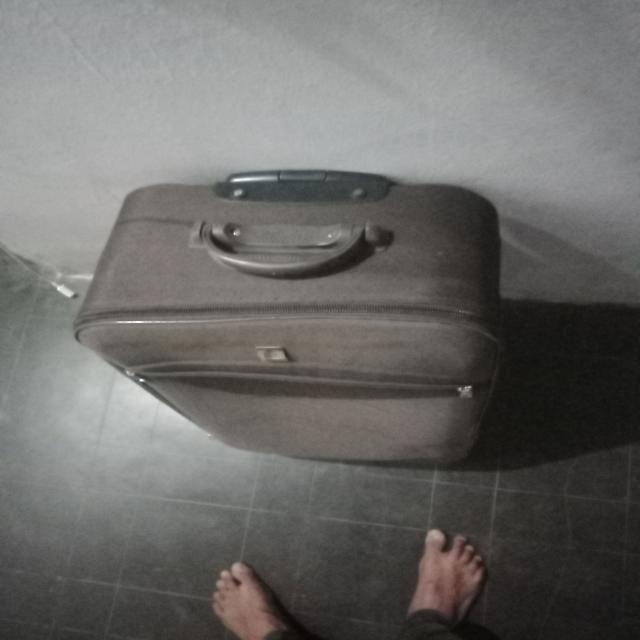suitcaserotation: (64, 161, 514, 472)
